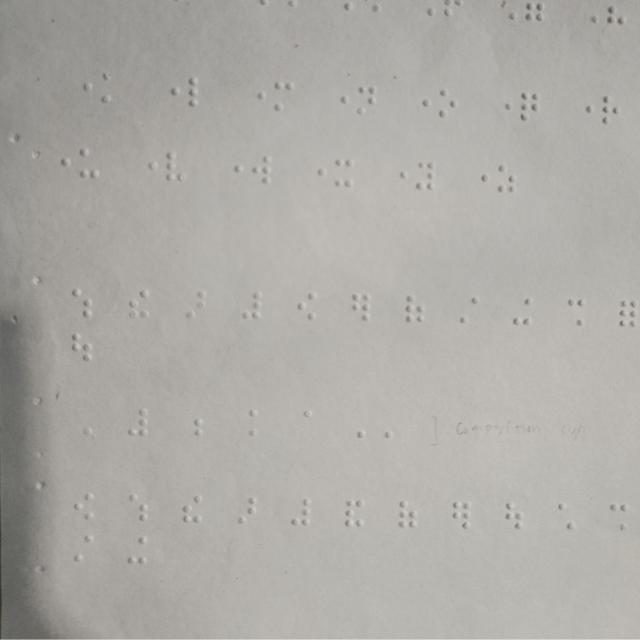ako: (73, 491, 95, 523)
an: (71, 288, 93, 320)
anak: (127, 491, 149, 522)
ang: (181, 494, 203, 526), (128, 289, 150, 320)
ar: (185, 288, 207, 320)
araw: (236, 494, 257, 524)
at: (240, 288, 262, 320), (290, 497, 311, 527)
aw: (296, 290, 318, 322)
ay: (344, 498, 365, 529)
ayaw: (414, 160, 436, 192)
buhay: (165, 151, 187, 183)
capital: (72, 406, 94, 437)
dot_5: (50, 148, 72, 180), (137, 148, 159, 180), (467, 163, 489, 195), (159, 75, 181, 107), (491, 92, 513, 124), (572, 95, 594, 127), (305, 155, 327, 186), (387, 160, 409, 191), (71, 74, 93, 105), (244, 81, 266, 112), (328, 83, 350, 114), (409, 88, 431, 119), (223, 151, 244, 183)
eksamen: (332, 157, 354, 189)
er: (350, 291, 372, 323)
han: (403, 294, 425, 325)
hanggang: (397, 499, 418, 530)
ibig: (457, 292, 479, 324), (73, 533, 94, 563)
ing: (510, 296, 532, 328)
ingay: (126, 535, 147, 565)
kailangan: (101, 72, 123, 104)
kanila: (555, 501, 576, 531)
kislap: (519, 91, 541, 123)
larawan: (188, 76, 210, 108)
mabuti: (273, 81, 295, 113)
mag: (565, 297, 587, 329)
maging: (607, 502, 628, 532)
mahal: (617, 298, 639, 330)
noon: (355, 85, 377, 116)
number: (126, 405, 148, 437)
opo: (437, 88, 459, 120)
raw: (451, 500, 472, 530)
roon: (599, 94, 621, 126)
salita: (496, 163, 518, 195)
tu: (70, 332, 92, 364)
tunay: (503, 501, 524, 531)
ugali: (77, 148, 99, 180)
wasto: (250, 154, 272, 185)
